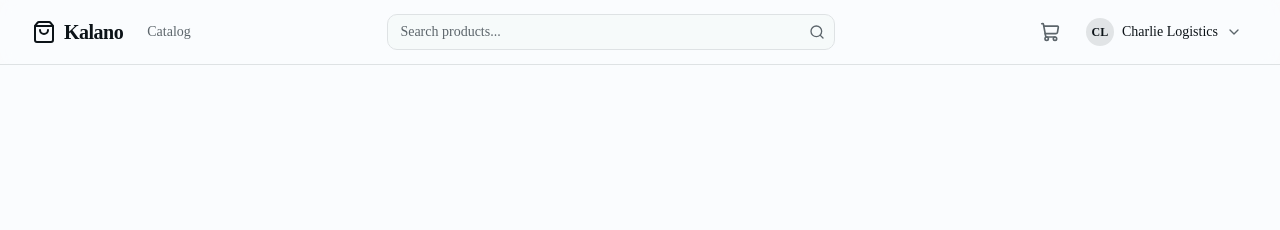
Test: Navbar › Authenticated State - Logistics › shows Logistics Dashboard link when menu is opened
What coordinates should you click on to do the following:
click the button "CL Charlie Logistics"
I would click on:
 (1164, 32)
Its box is left=1080, top=12, right=1248, bottom=52.
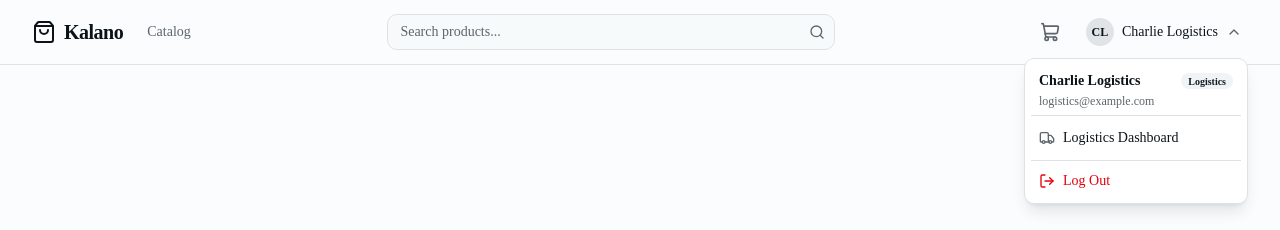
Expected: the menu is shown, left=1024, top=58, right=1248, bottom=204
Expected: the text "logistics@example.com" is shown, left=1039, top=94, right=1154, bottom=108
Expected: the text "Logistics" is shown, left=1181, top=73, right=1233, bottom=89
